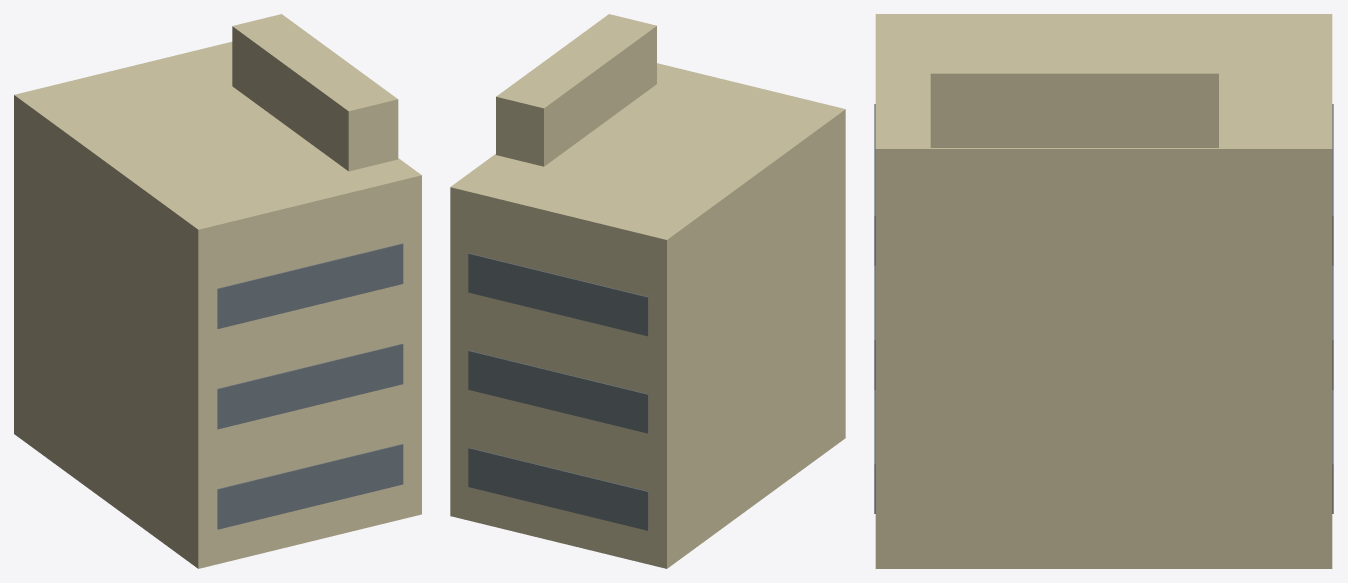
Rendered from bay-townhouse-yellow.coast-v2.lod2.glb.
3 renders of one model, left to right at view 1: azimuth 30°, elevation 25°; view 2: azimuth 150°, elevation 25°; view 3: azimuth 270°, elevation 25°, orthographic. The views are drawn at different scales.
Parts seen in each view (by area): view 1: bay-townhouse-yellow; view 2: bay-townhouse-yellow; view 3: bay-townhouse-yellow.
Part boxes in pixels (x1,y1,x2,y2): bay-townhouse-yellow: [14, 14, 421, 568]; bay-townhouse-yellow: [450, 14, 845, 568]; bay-townhouse-yellow: [874, 14, 1333, 568].
Size of the model in its own units: 7 by 11.95 by 10.06.
